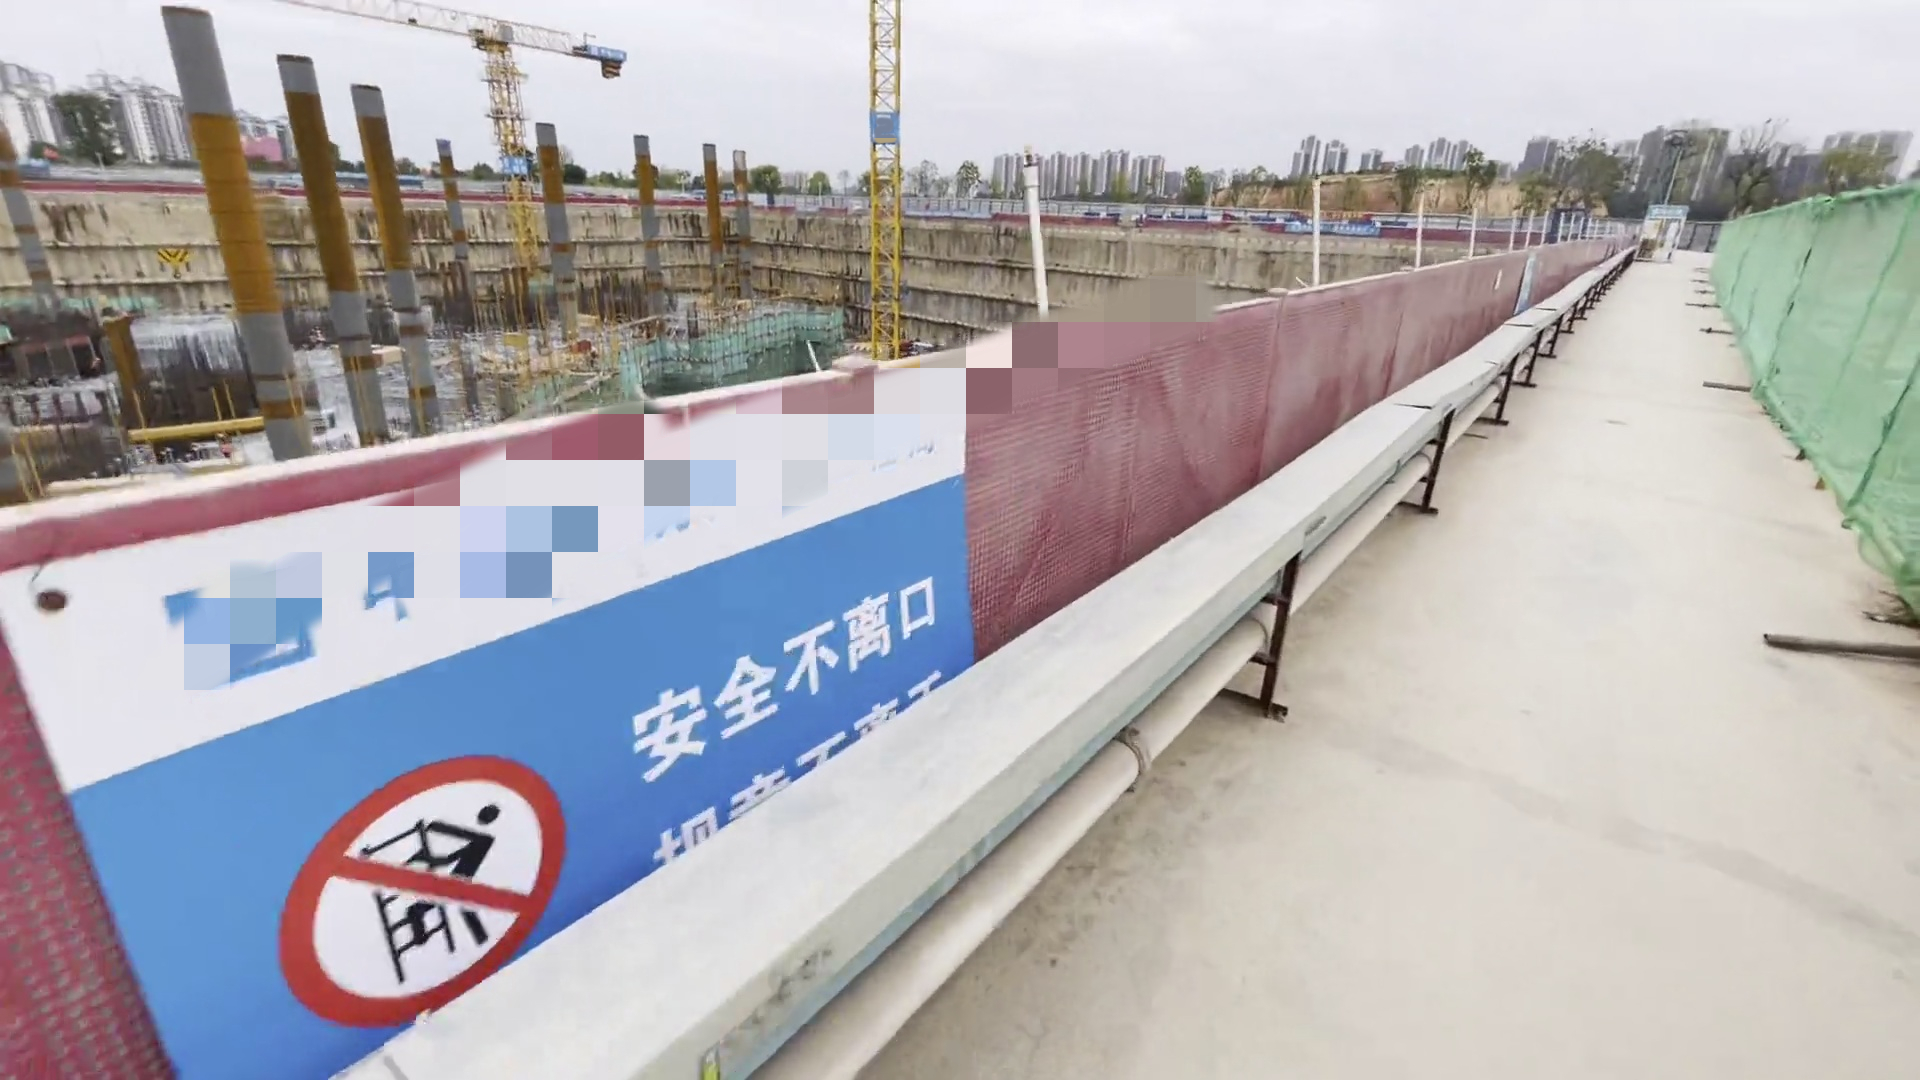fence: (961, 229, 1730, 504)
hook: (154, 232, 202, 282)
slogan: (17, 406, 1069, 1025), (1273, 208, 1443, 251)
